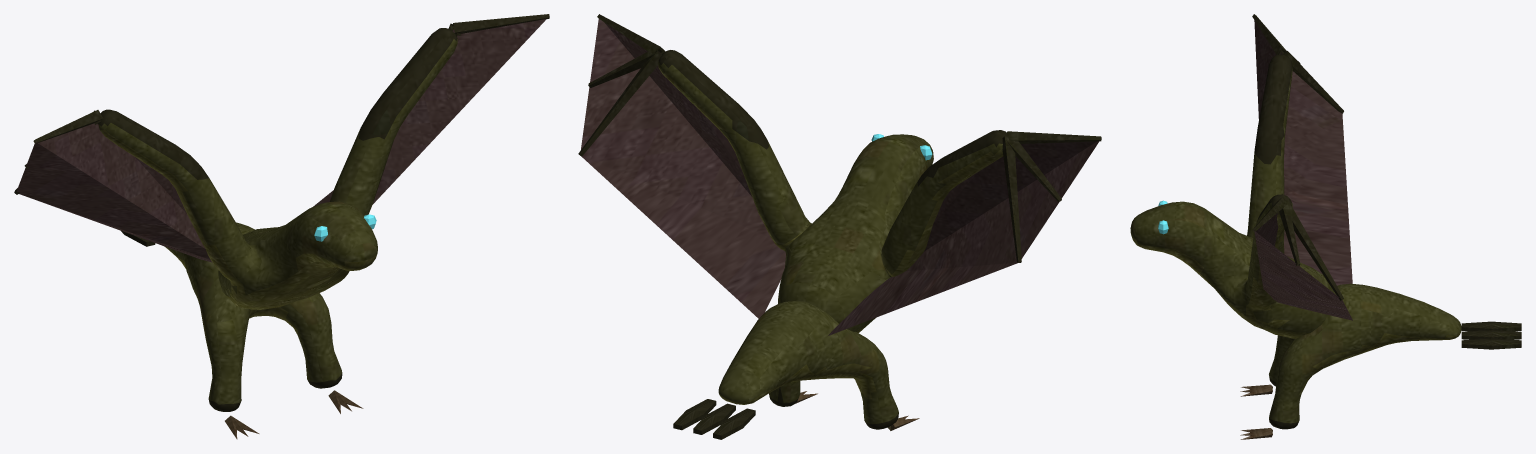
File: mon_wing_02.glb
The picture shows the model from 3 angles, left to right: view 1: azimuth 30°, elevation 25°; view 2: azimuth 150°, elevation 25°; view 3: azimuth 270°, elevation 25°; orthographic projection. The views are drawn at different scales.
Visible parts, largest first — view 1: mon_wing_02; view 2: mon_wing_02; view 3: mon_wing_02.
Part boxes in pixels (bbox=[...]): mon_wing_02: bbox=[14, 14, 549, 439]; mon_wing_02: bbox=[578, 14, 1101, 439]; mon_wing_02: bbox=[1130, 14, 1521, 439].
Size of the model in its own units: 1.07 by 0.6831 by 0.8224.
6 materials, 6 textured.
